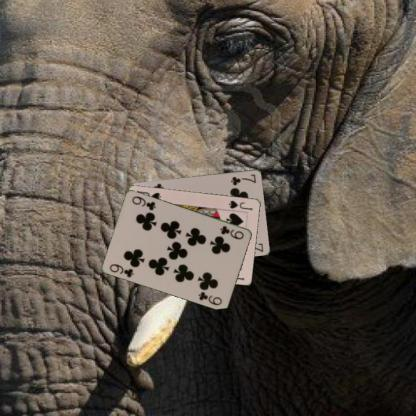7c: (228, 172, 257, 186)
9c: (107, 261, 136, 279), (218, 222, 245, 240)
Js: (226, 198, 254, 212)
